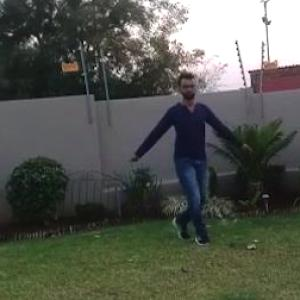land: (127, 81, 243, 233)
